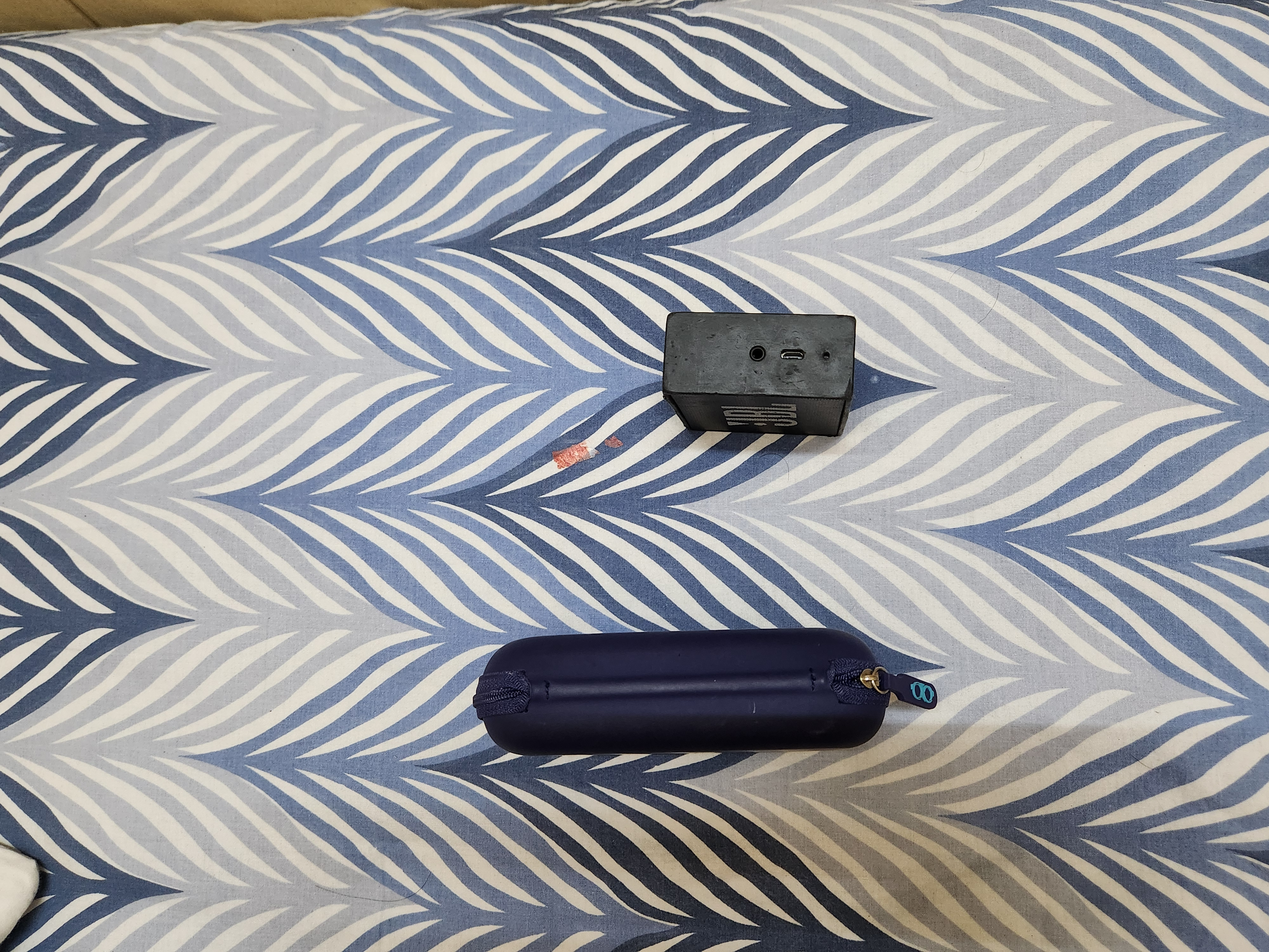case: (470, 627, 943, 754)
speaker: (660, 307, 860, 438)
